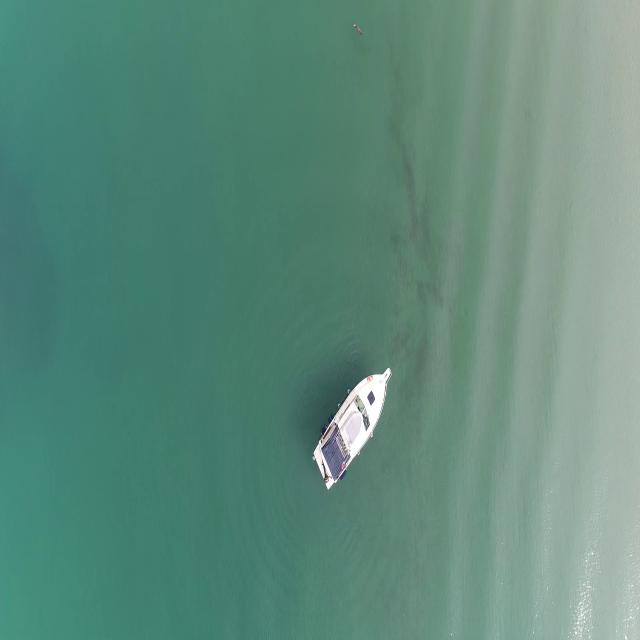boat: (315, 363, 392, 496)
wood: (352, 22, 364, 36)
